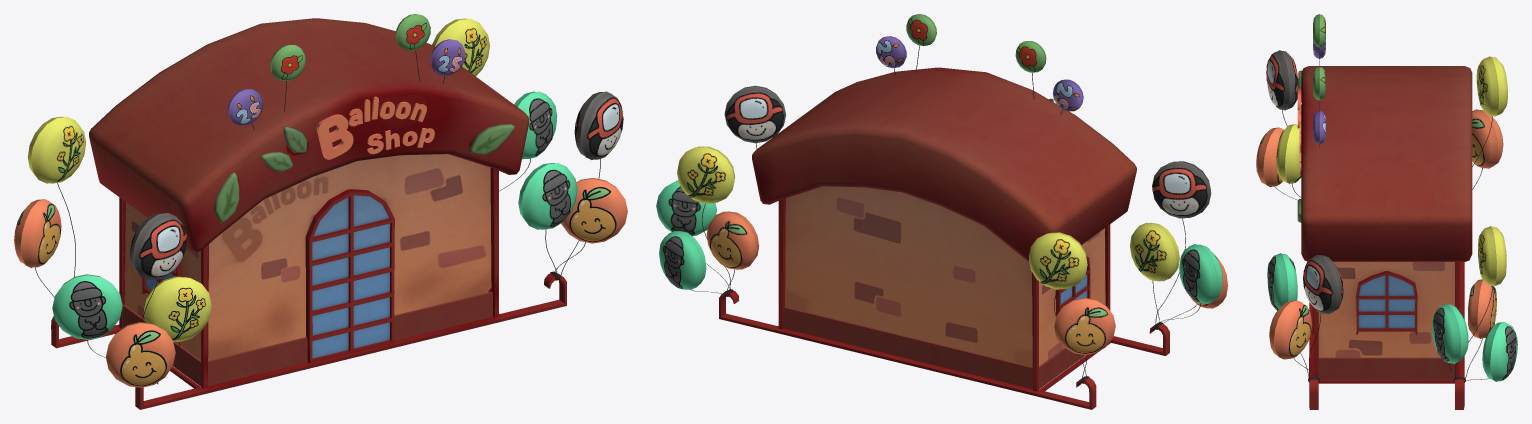
The model's file is Balloon_store(changed).fbx.
3 views of the same model, side by side, from view 1: azimuth 30°, elevation 25°; view 2: azimuth 150°, elevation 25°; view 3: azimuth 270°, elevation 25° (orthographic). The views are drawn at different scales.
Parts seen in each view (by area): view 1: Ballon_Store, Object001; view 2: Ballon_Store, Object001; view 3: Ballon_Store, Object001.
Part boxes in pixels (x1,y1,x2,y2): Ballon_Store: (35, 18, 600, 409); Object001: (14, 14, 627, 387); Ballon_Store: (691, 45, 1200, 409); Object001: (656, 14, 1227, 355); Ballon_Store: (1274, 48, 1492, 409); Object001: (1256, 14, 1517, 381).
Bounding box in the file's own units: 4929 × 2656 × 2256.
